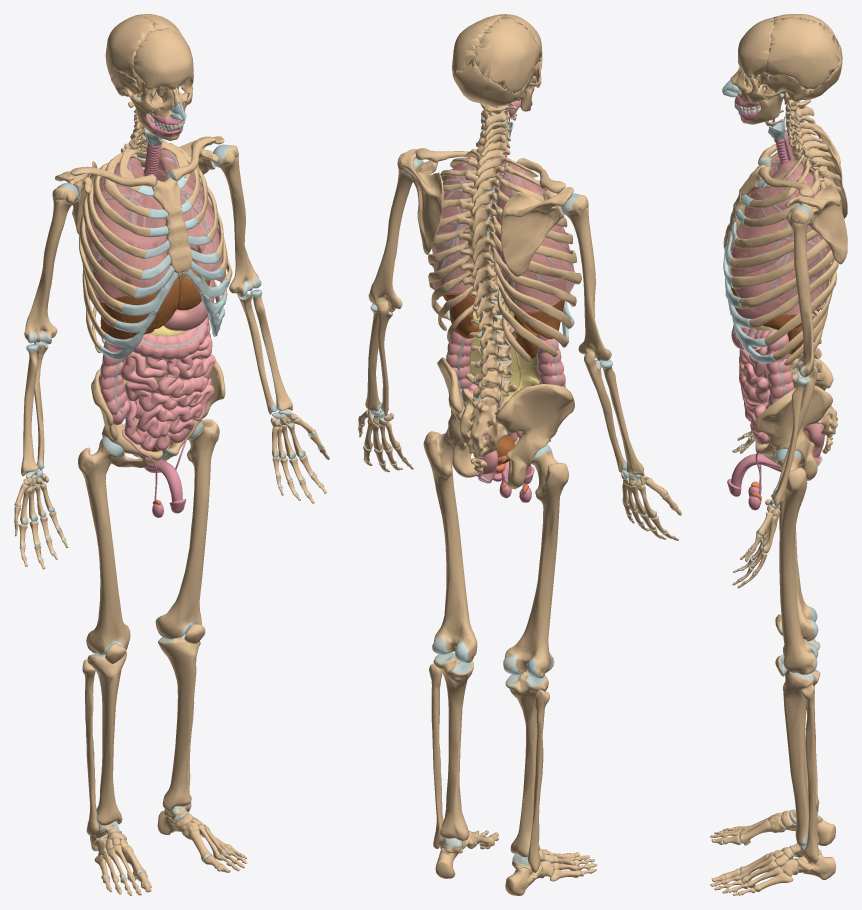
File: anatomy-internal.glb
3 renders of one model, left to right at view 1: azimuth 30°, elevation 25°; view 2: azimuth 150°, elevation 25°; view 3: azimuth 270°, elevation 25°, orthographic. The views are drawn at different scales.
Parts seen in each view (by area): view 1: Object_8, Object_53, Object_41, Object_62, Object_70, Object_66, Object_2; view 2: Object_8, Object_62, Object_41, Object_53, Object_70, Object_77, Object_2, Object_66; view 3: Object_8, Object_62, Object_41, Object_53, Object_66, Object_2, Object_70, Object_59.
Boxes of the visible parts, left/top/right/bottom form: Object_8: left=14, top=14, right=329, bottom=895; Object_53: left=99, top=280, right=215, bottom=456; Object_41: left=14, top=95, right=323, bottom=891; Object_62: left=85, top=149, right=225, bottom=302; Object_70: left=99, top=259, right=210, bottom=451; Object_66: left=122, top=108, right=194, bottom=517; Object_2: left=89, top=152, right=221, bottom=273; Object_8: left=358, top=14, right=681, bottom=895; Object_62: left=431, top=155, right=574, bottom=312; Object_41: left=360, top=89, right=676, bottom=877; Object_53: left=446, top=311, right=565, bottom=482; Object_70: left=443, top=293, right=564, bottom=463; Object_77: left=469, top=311, right=539, bottom=434; Object_2: left=435, top=157, right=565, bottom=304; Object_66: left=461, top=87, right=534, bottom=502; Object_8: left=710, top=14, right=847, bottom=895; Object_62: left=729, top=155, right=830, bottom=315; Object_41: left=715, top=79, right=823, bottom=894; Object_53: left=731, top=295, right=824, bottom=464; Object_66: left=727, top=95, right=794, bottom=510; Object_2: left=744, top=158, right=826, bottom=303; Object_70: left=729, top=251, right=807, bottom=443; Object_59: left=732, top=326, right=804, bottom=437.
Bounding box in the file's own units: 0.6693 × 1.7 × 0.2501.
